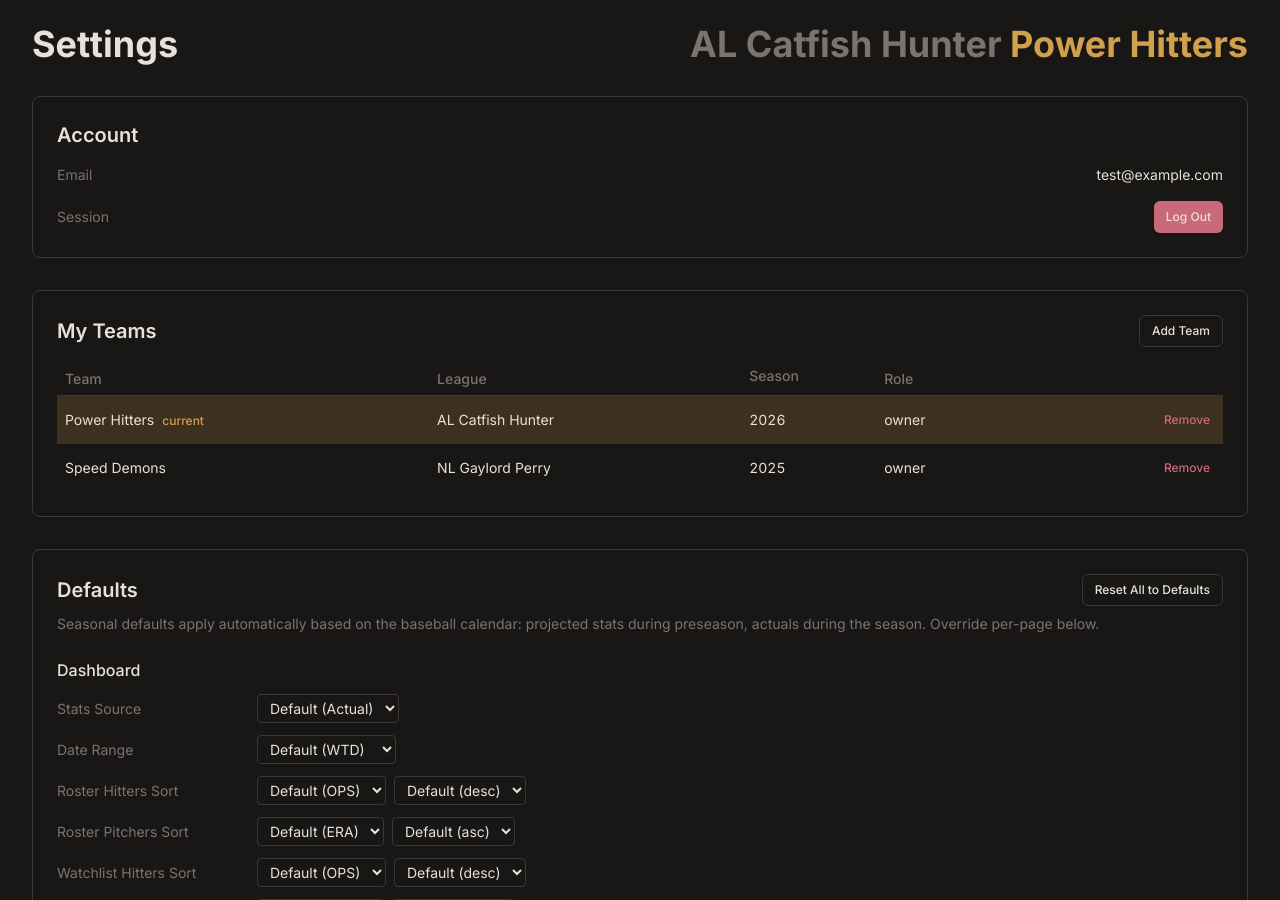
Scenario: SettingsPage › opens ConfirmDialog when Remove is clicked
Click the button "Remove" in the row of "current" at {"x": 1187, "y": 420}, box [1152,404,1222,436]
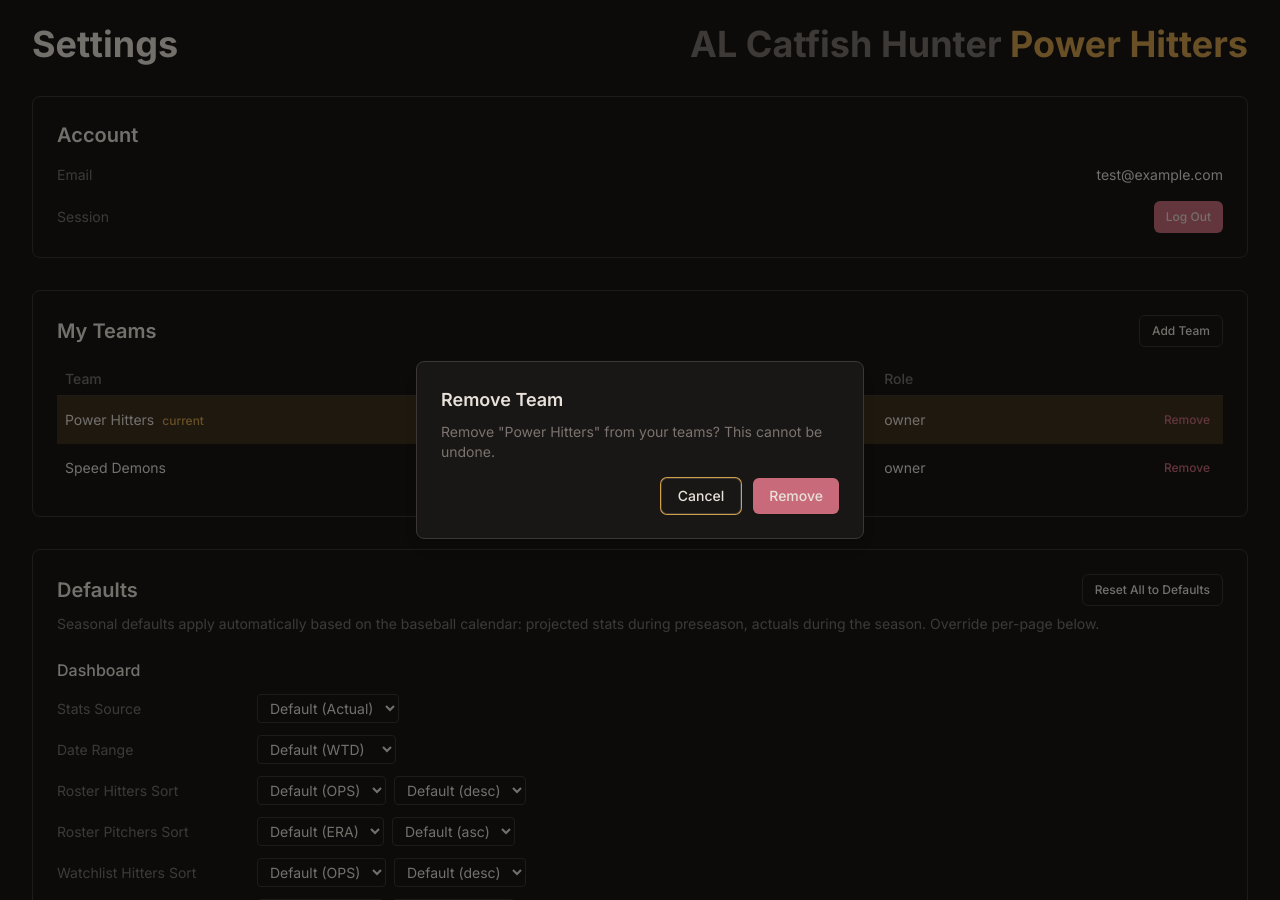
Result: the heading "Remove Team" is shown at [441,389,563,410]
Result: the text "Remove \"Power Hitters\" from your teams" is shown at [441,423,822,460]
